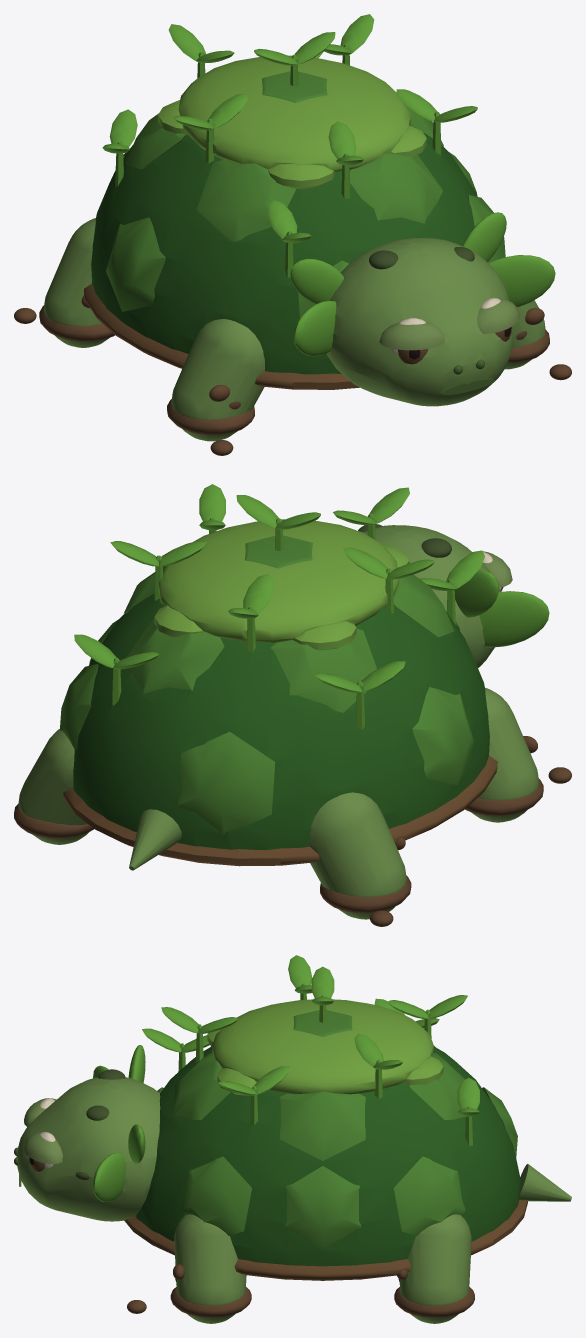
The model's file is mossling.glb.
3 renders of one model, top to bottom at view 1: azimuth 30°, elevation 25°; view 2: azimuth 150°, elevation 25°; view 3: azimuth 270°, elevation 25°, orthographic. The views are drawn at different scales.
Parts seen in each view (by area): view 1: creature; view 2: creature; view 3: creature.
Part boxes in pixels (left/top/right/bottom): creature: left=14, top=14, right=571, bottom=455; creature: left=14, top=484, right=571, bottom=926; creature: left=14, top=955, right=571, bottom=1323.
Bounding box in the file's own units: 1.27 × 1 × 1.85.
